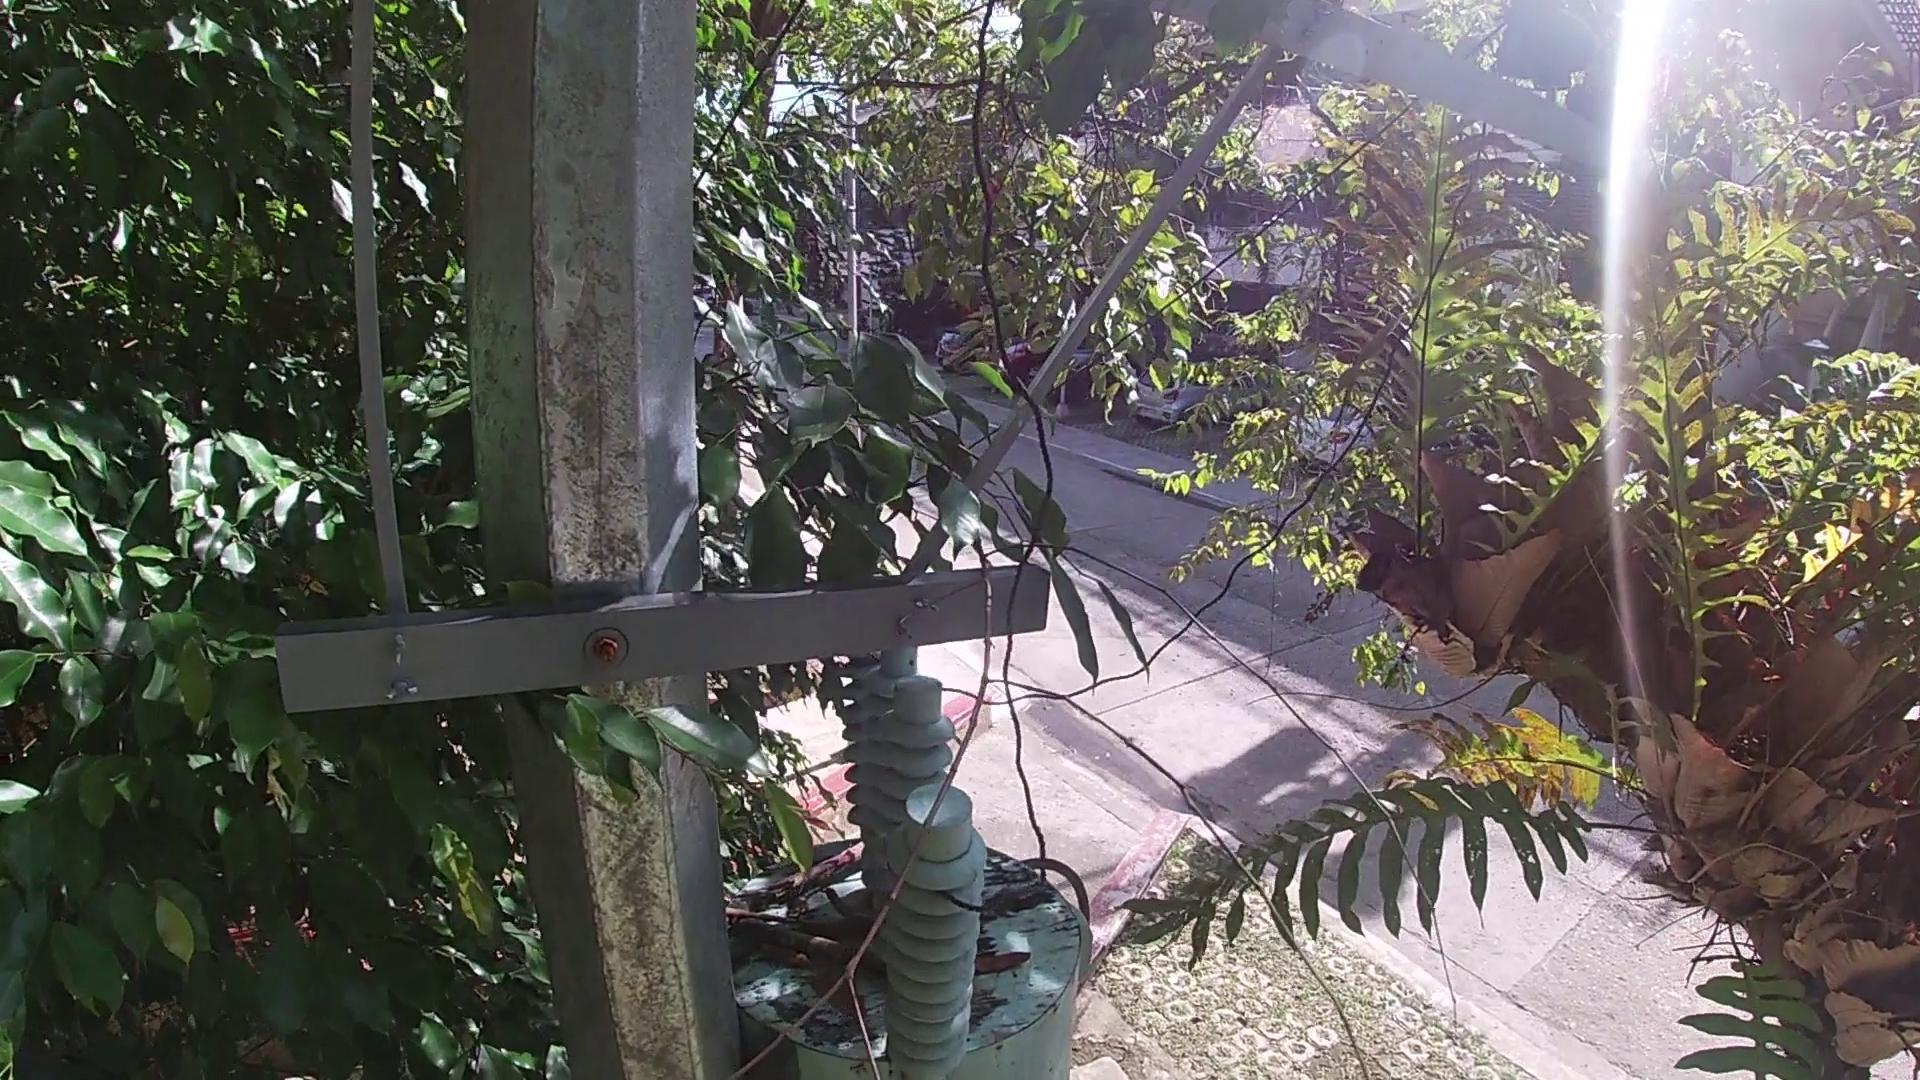leaf: (804, 978, 880, 1025), (737, 949, 810, 977)
mahogany fruit: (972, 935, 1046, 981), (814, 880, 869, 914)
tree branch: (696, 488, 1395, 1071), (750, 847, 872, 897), (732, 922, 869, 964), (709, 901, 840, 935)
